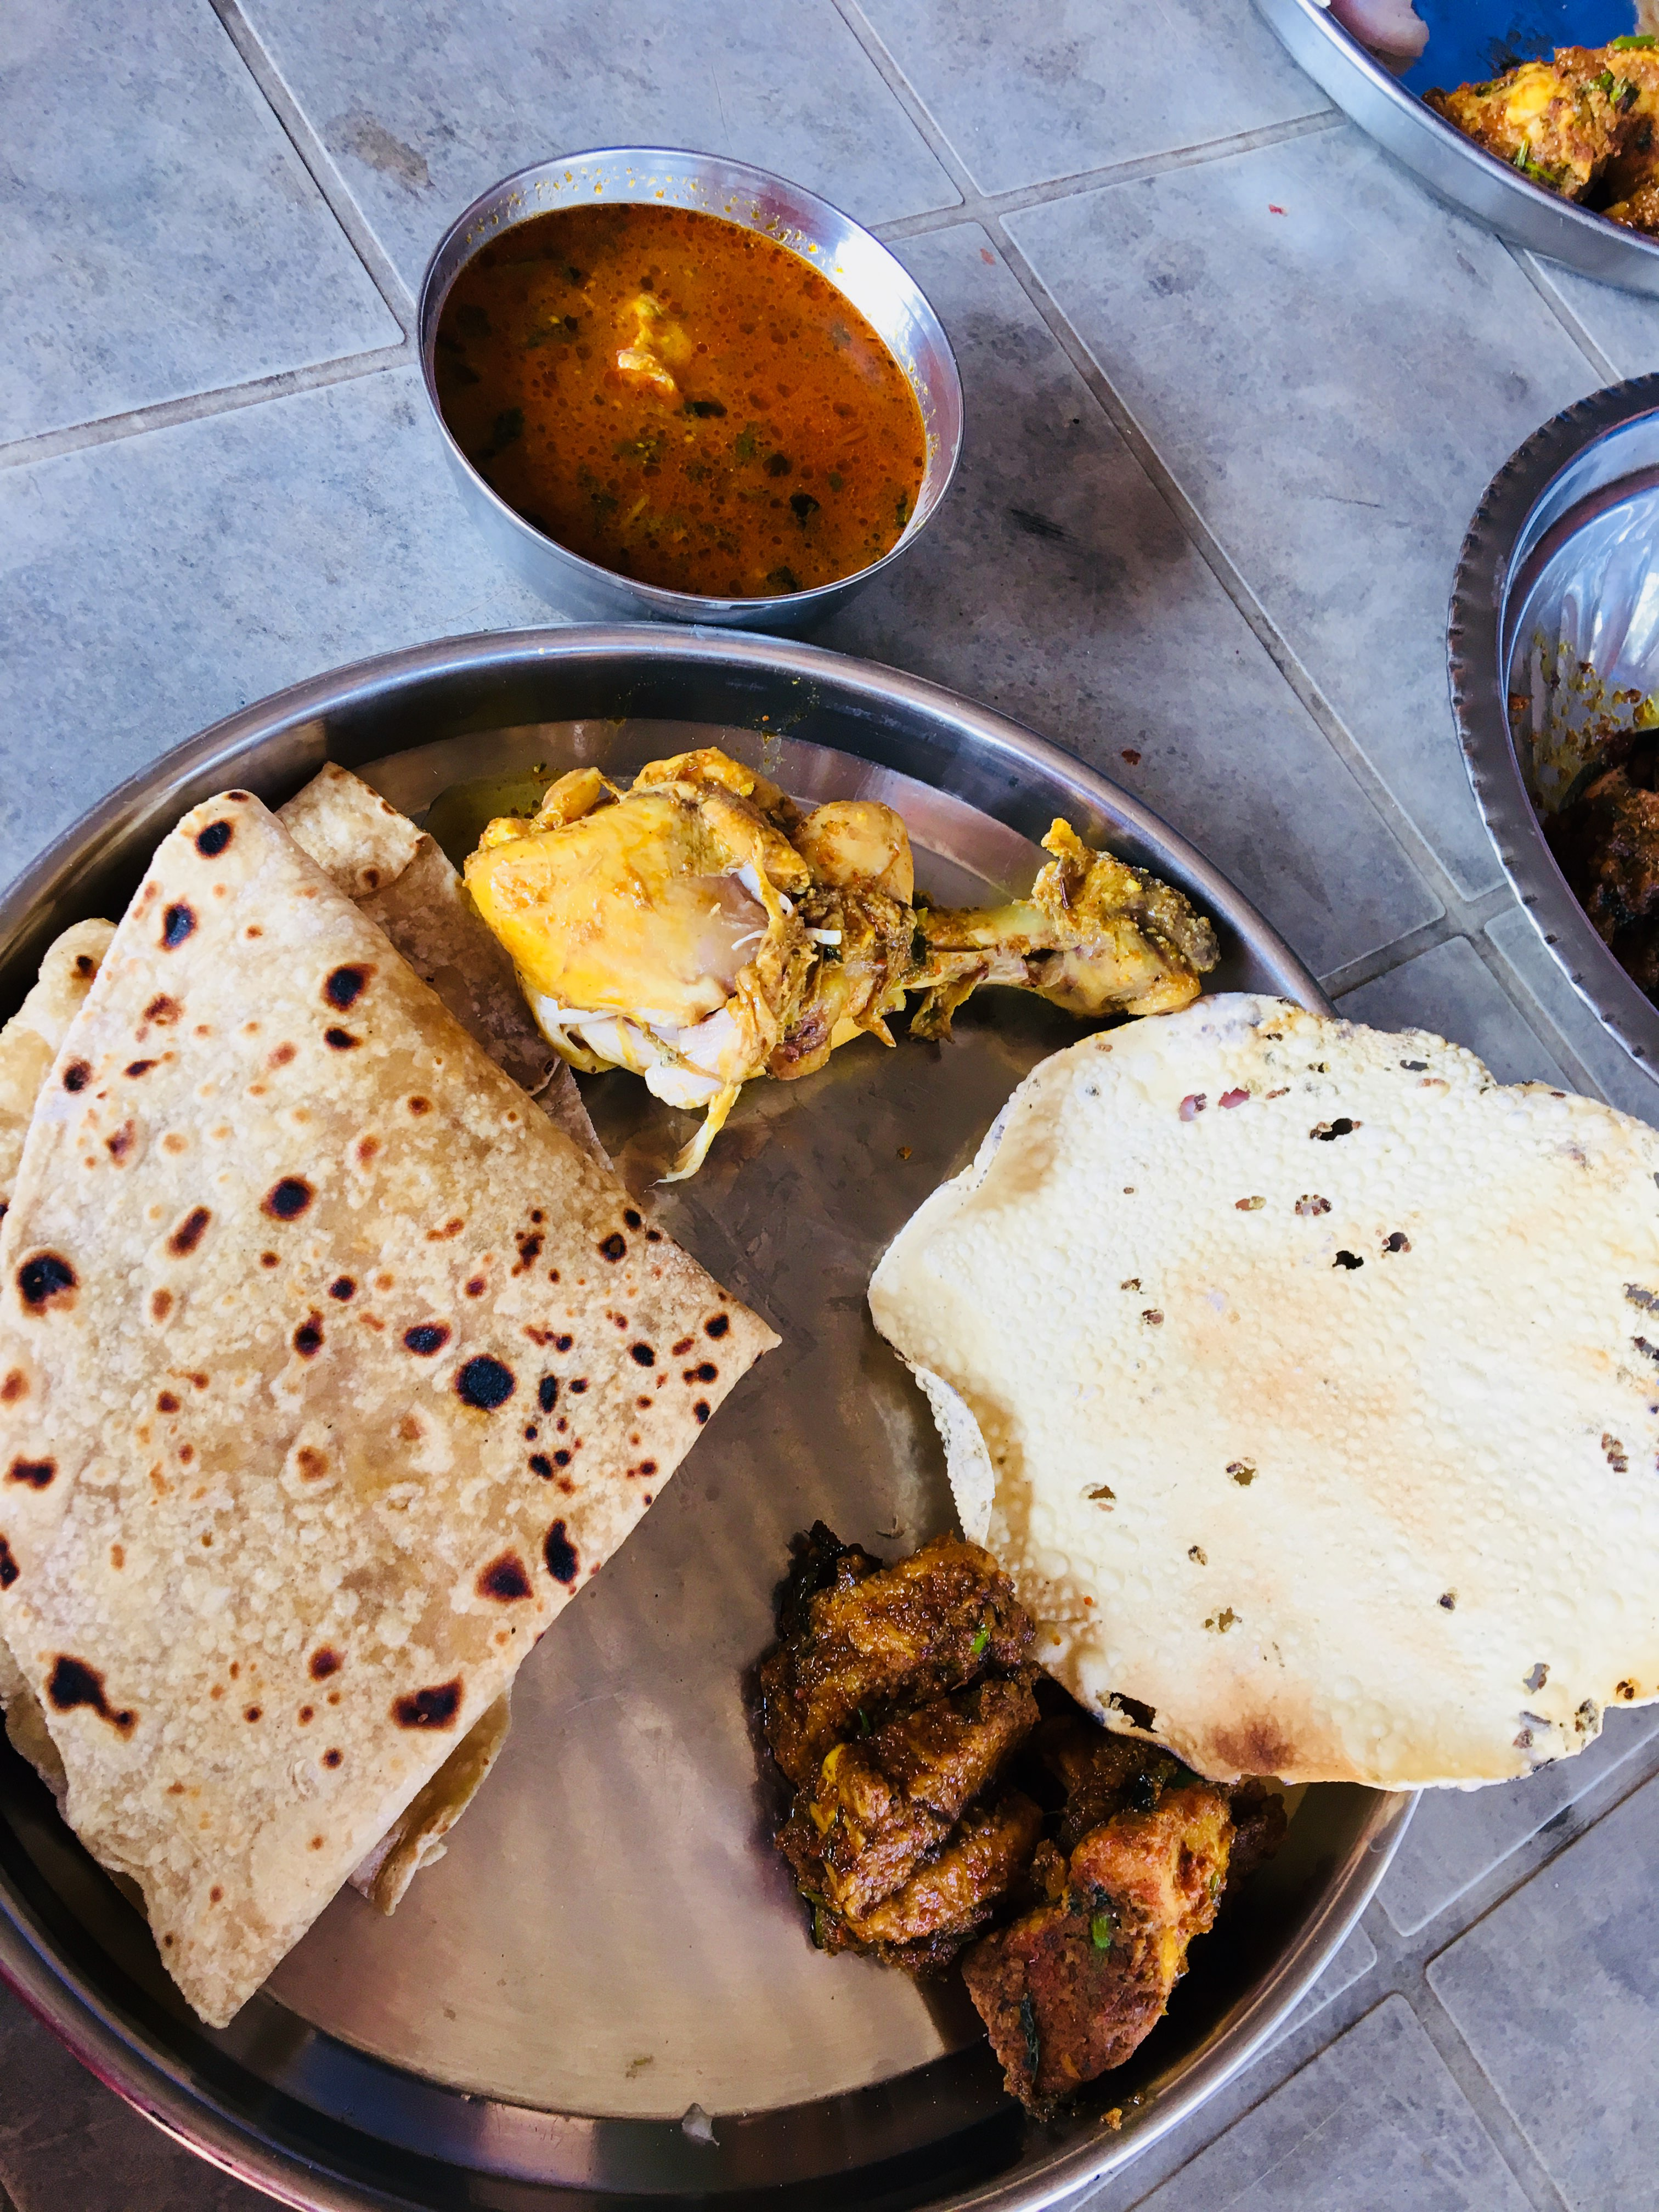food: (2, 735, 1659, 2125), (411, 186, 950, 608), (1317, 0, 1659, 253), (1527, 469, 1659, 1000)
